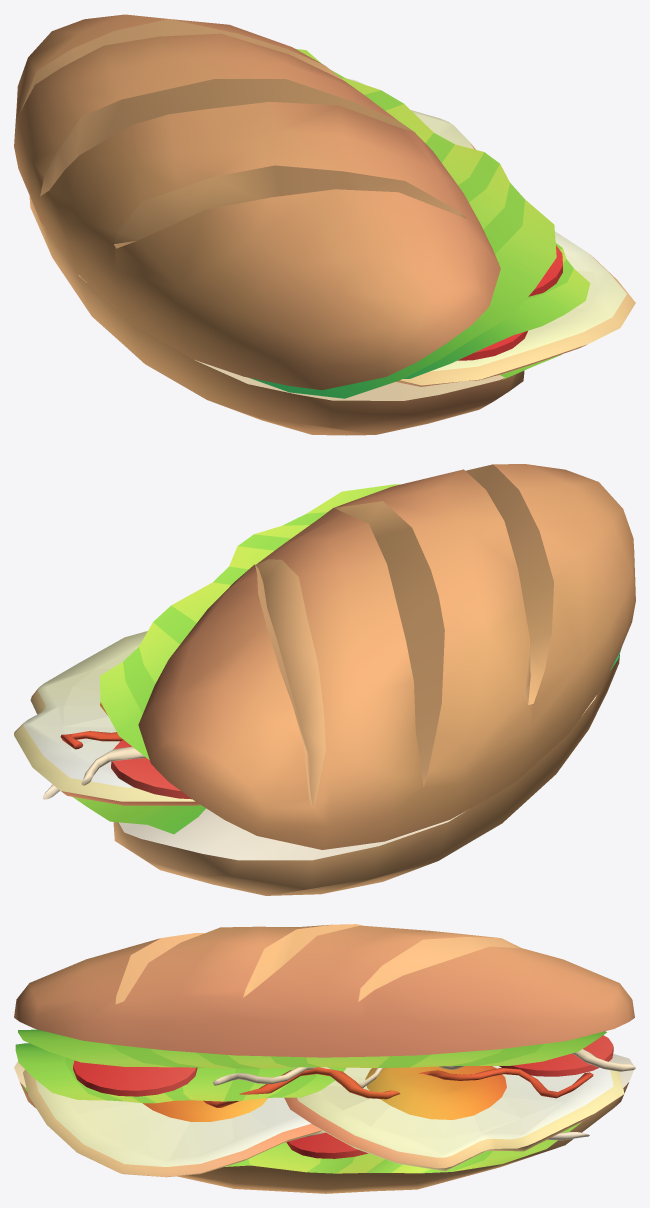
The model's file is BM_Egg.fbx.
3 renders of one model, top to bottom at view 1: azimuth 30°, elevation 25°; view 2: azimuth 150°, elevation 25°; view 3: azimuth 270°, elevation 25°, orthographic. The views are drawn at different scales.
Parts seen in each view (by area): view 1: BM_Egg_Variant; view 2: BM_Egg_Variant; view 3: BM_Egg_Variant.
Part boxes in pixels (<box>): BM_Egg_Variant: <box>14,14,635,435</box>; BM_Egg_Variant: <box>14,464,635,895</box>; BM_Egg_Variant: <box>14,924,635,1193</box>.
Size of the model in its own units: 175 by 119 by 286.
